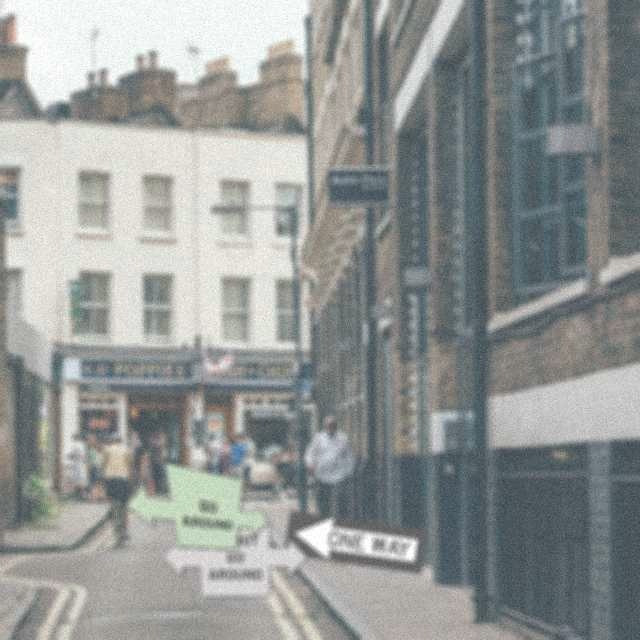DO_NOT_GO_AROUND: (163, 518, 308, 597)
GO_AROUND: (124, 461, 269, 550)
ONE_WAY_ left: (283, 510, 428, 574)
